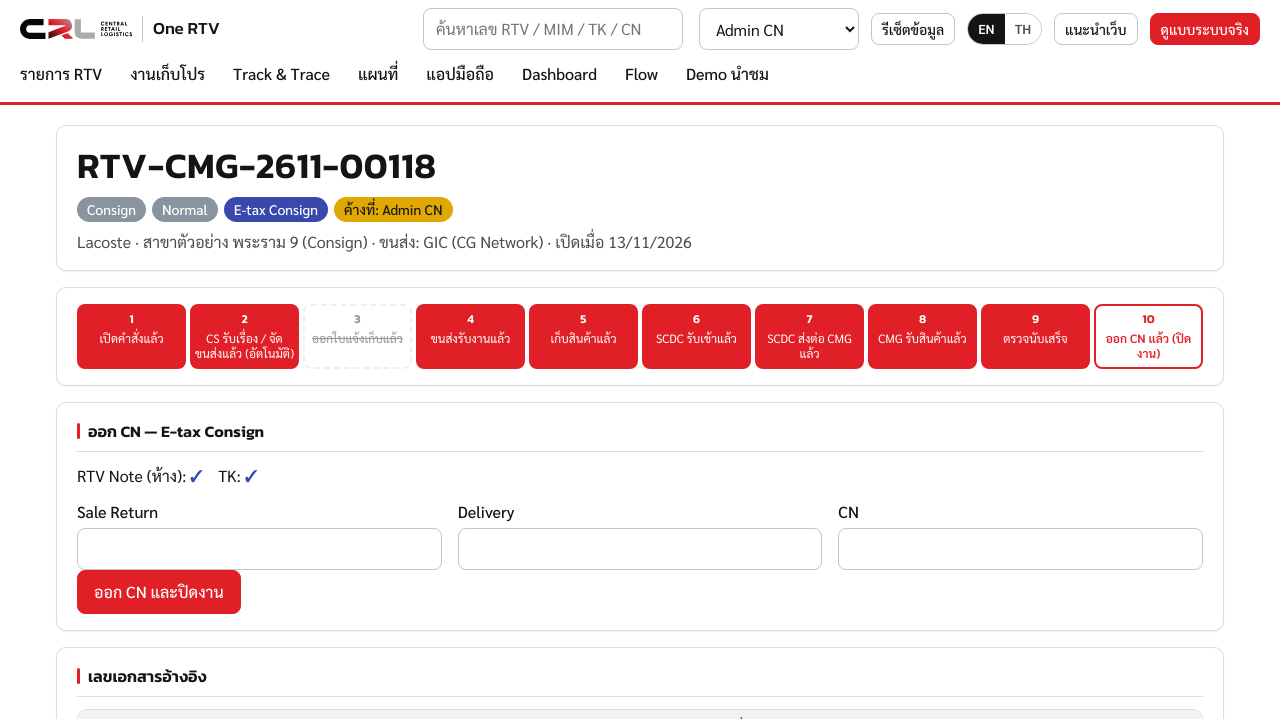
closing with a CN document shows its number
Type "SR1" into the field labelled "Sale Return" at (259, 549), box x1=77 y1=528 x2=442 y2=570
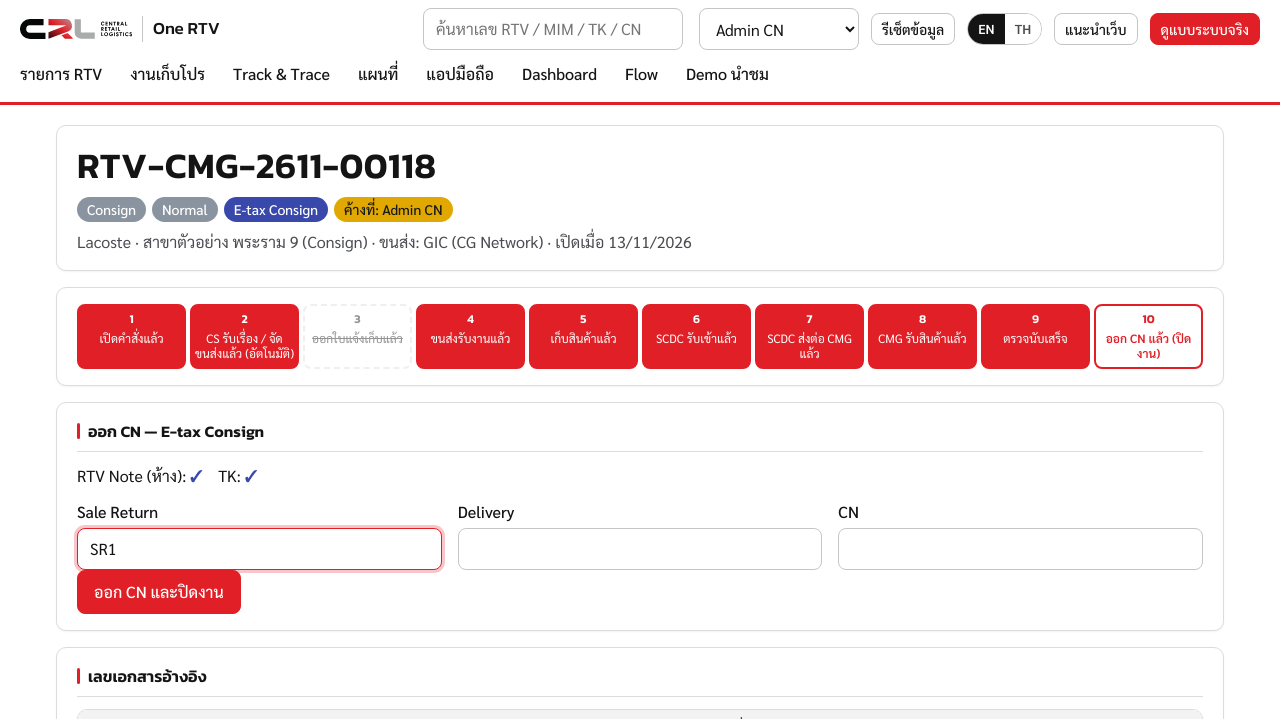
Type "DL1" into the field labelled "Delivery" at (640, 549), box x1=458 y1=528 x2=822 y2=570
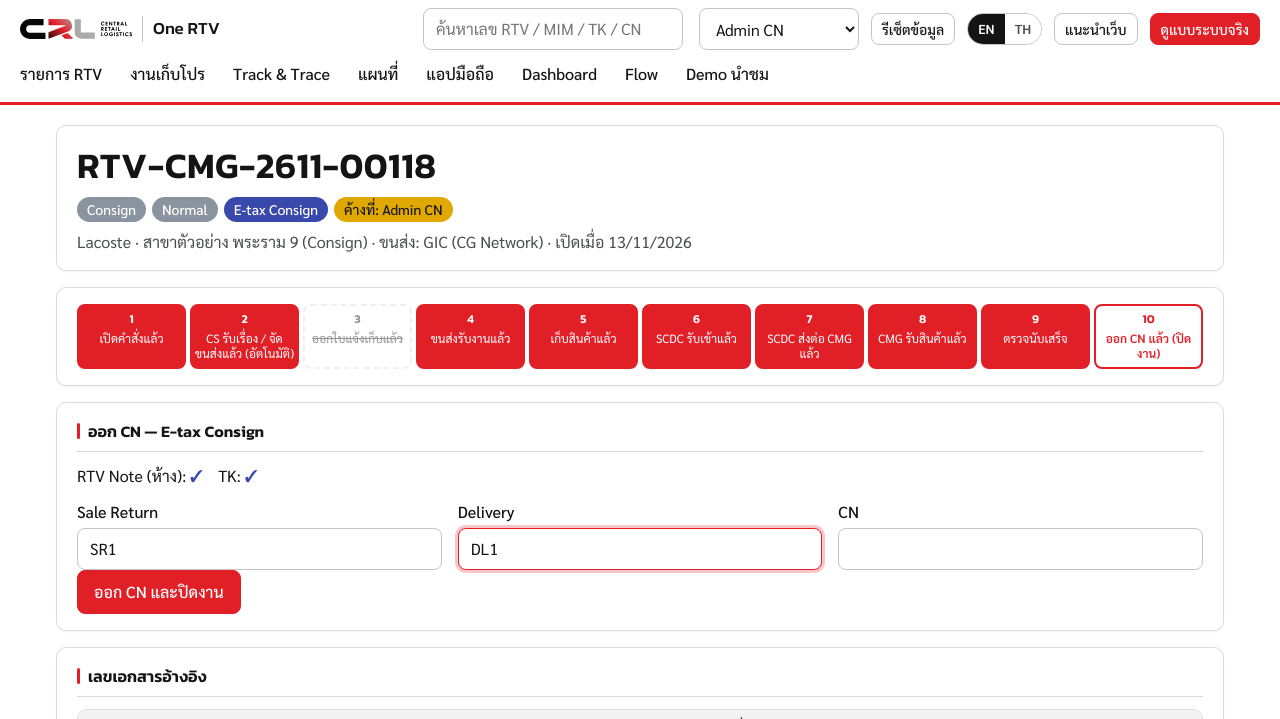
Click the button "ออก CN และปิดงาน" at (159, 592), box x1=77 y1=570 x2=241 y2=614
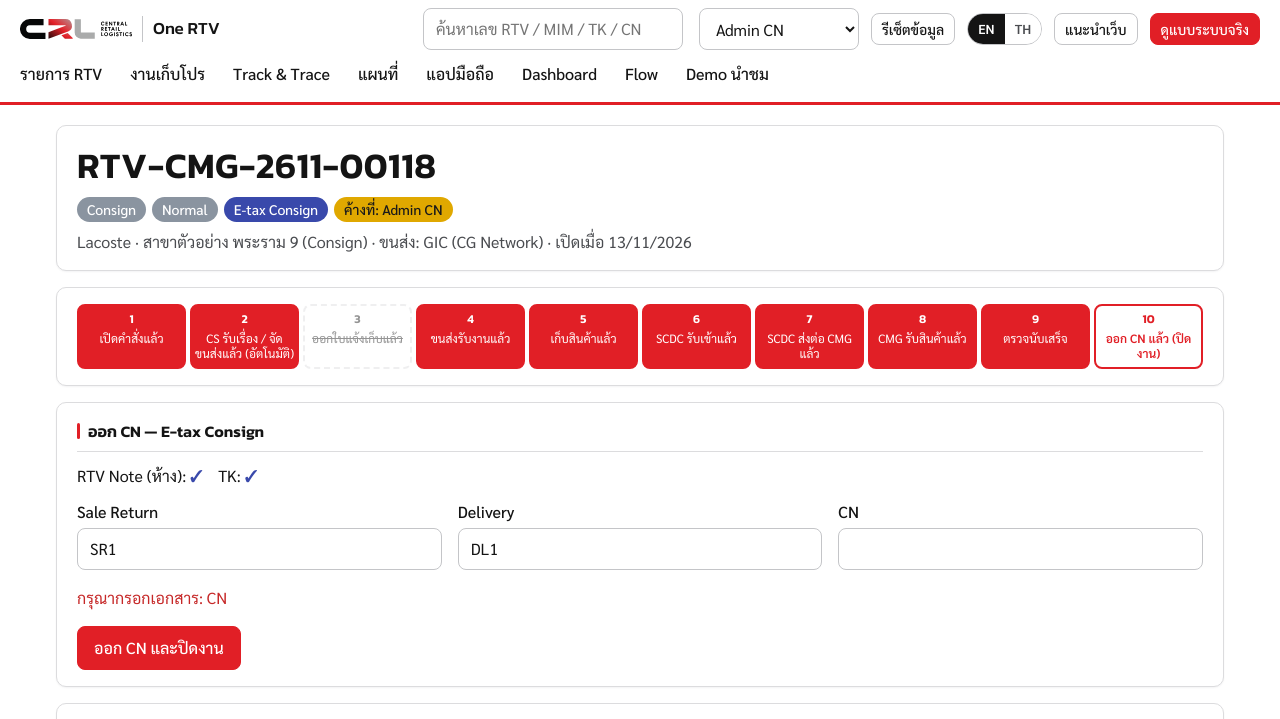
Expected: the text "กรุณากรอกเอกสาร: CN" is shown, x1=77 y1=587 x2=227 y2=608
Type "CN-5551" into the field labelled "CN" at (1021, 549), box x1=838 y1=528 x2=1203 y2=570
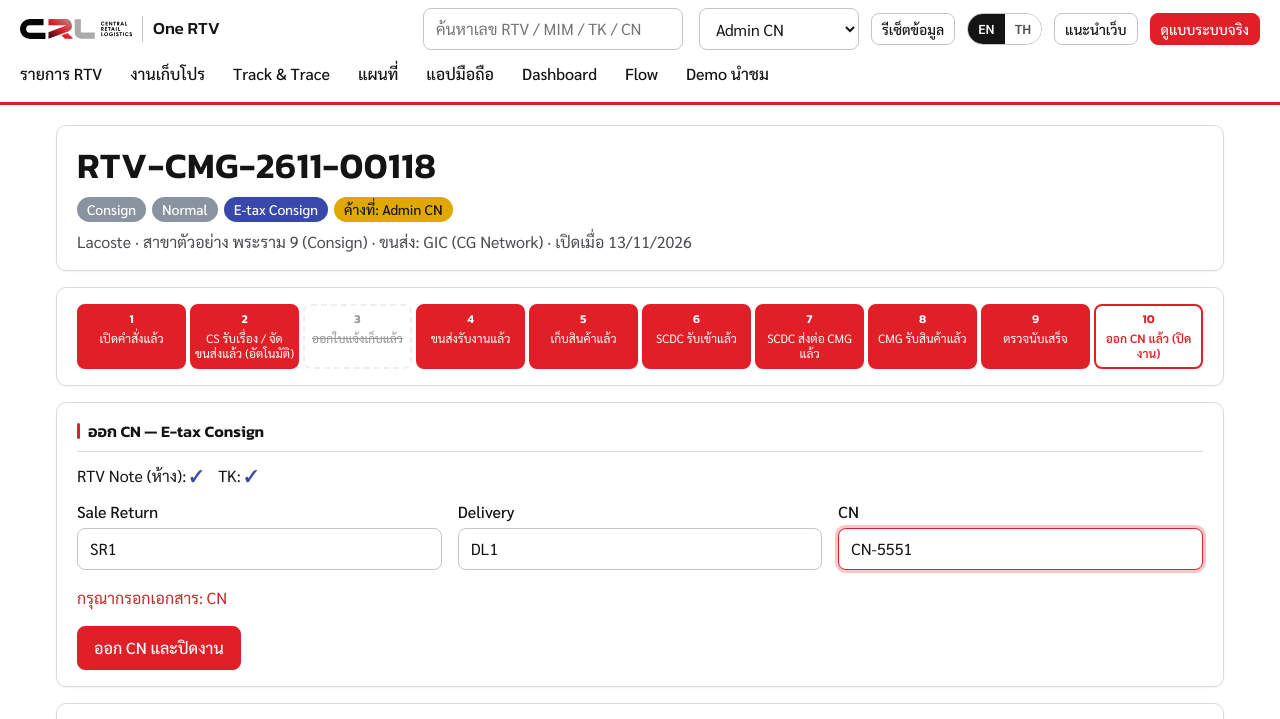
Click the button "ออก CN และปิดงาน" at (159, 648), box x1=77 y1=626 x2=241 y2=670
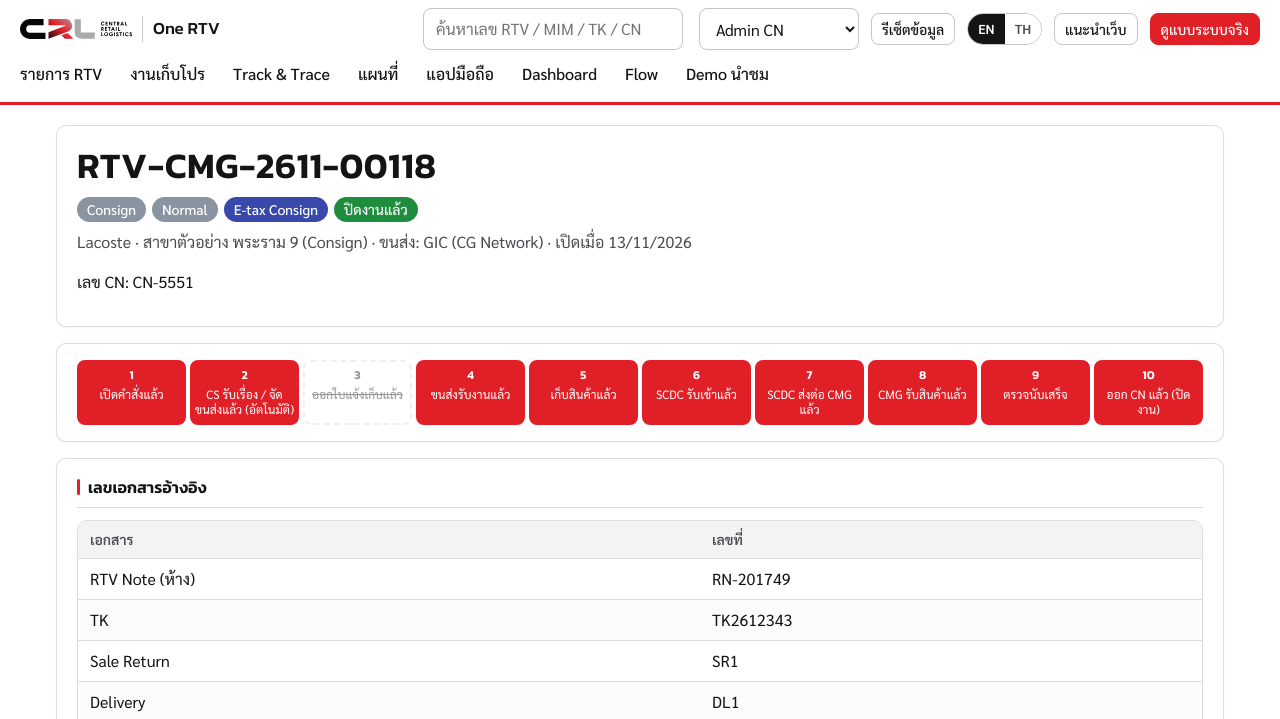
Expected: the text "ปิดงานแล้ว" is shown, x1=334 y1=197 x2=418 y2=222
Expected: the text "เลข CN: CN-5551" is shown, x1=77 y1=271 x2=194 y2=292
